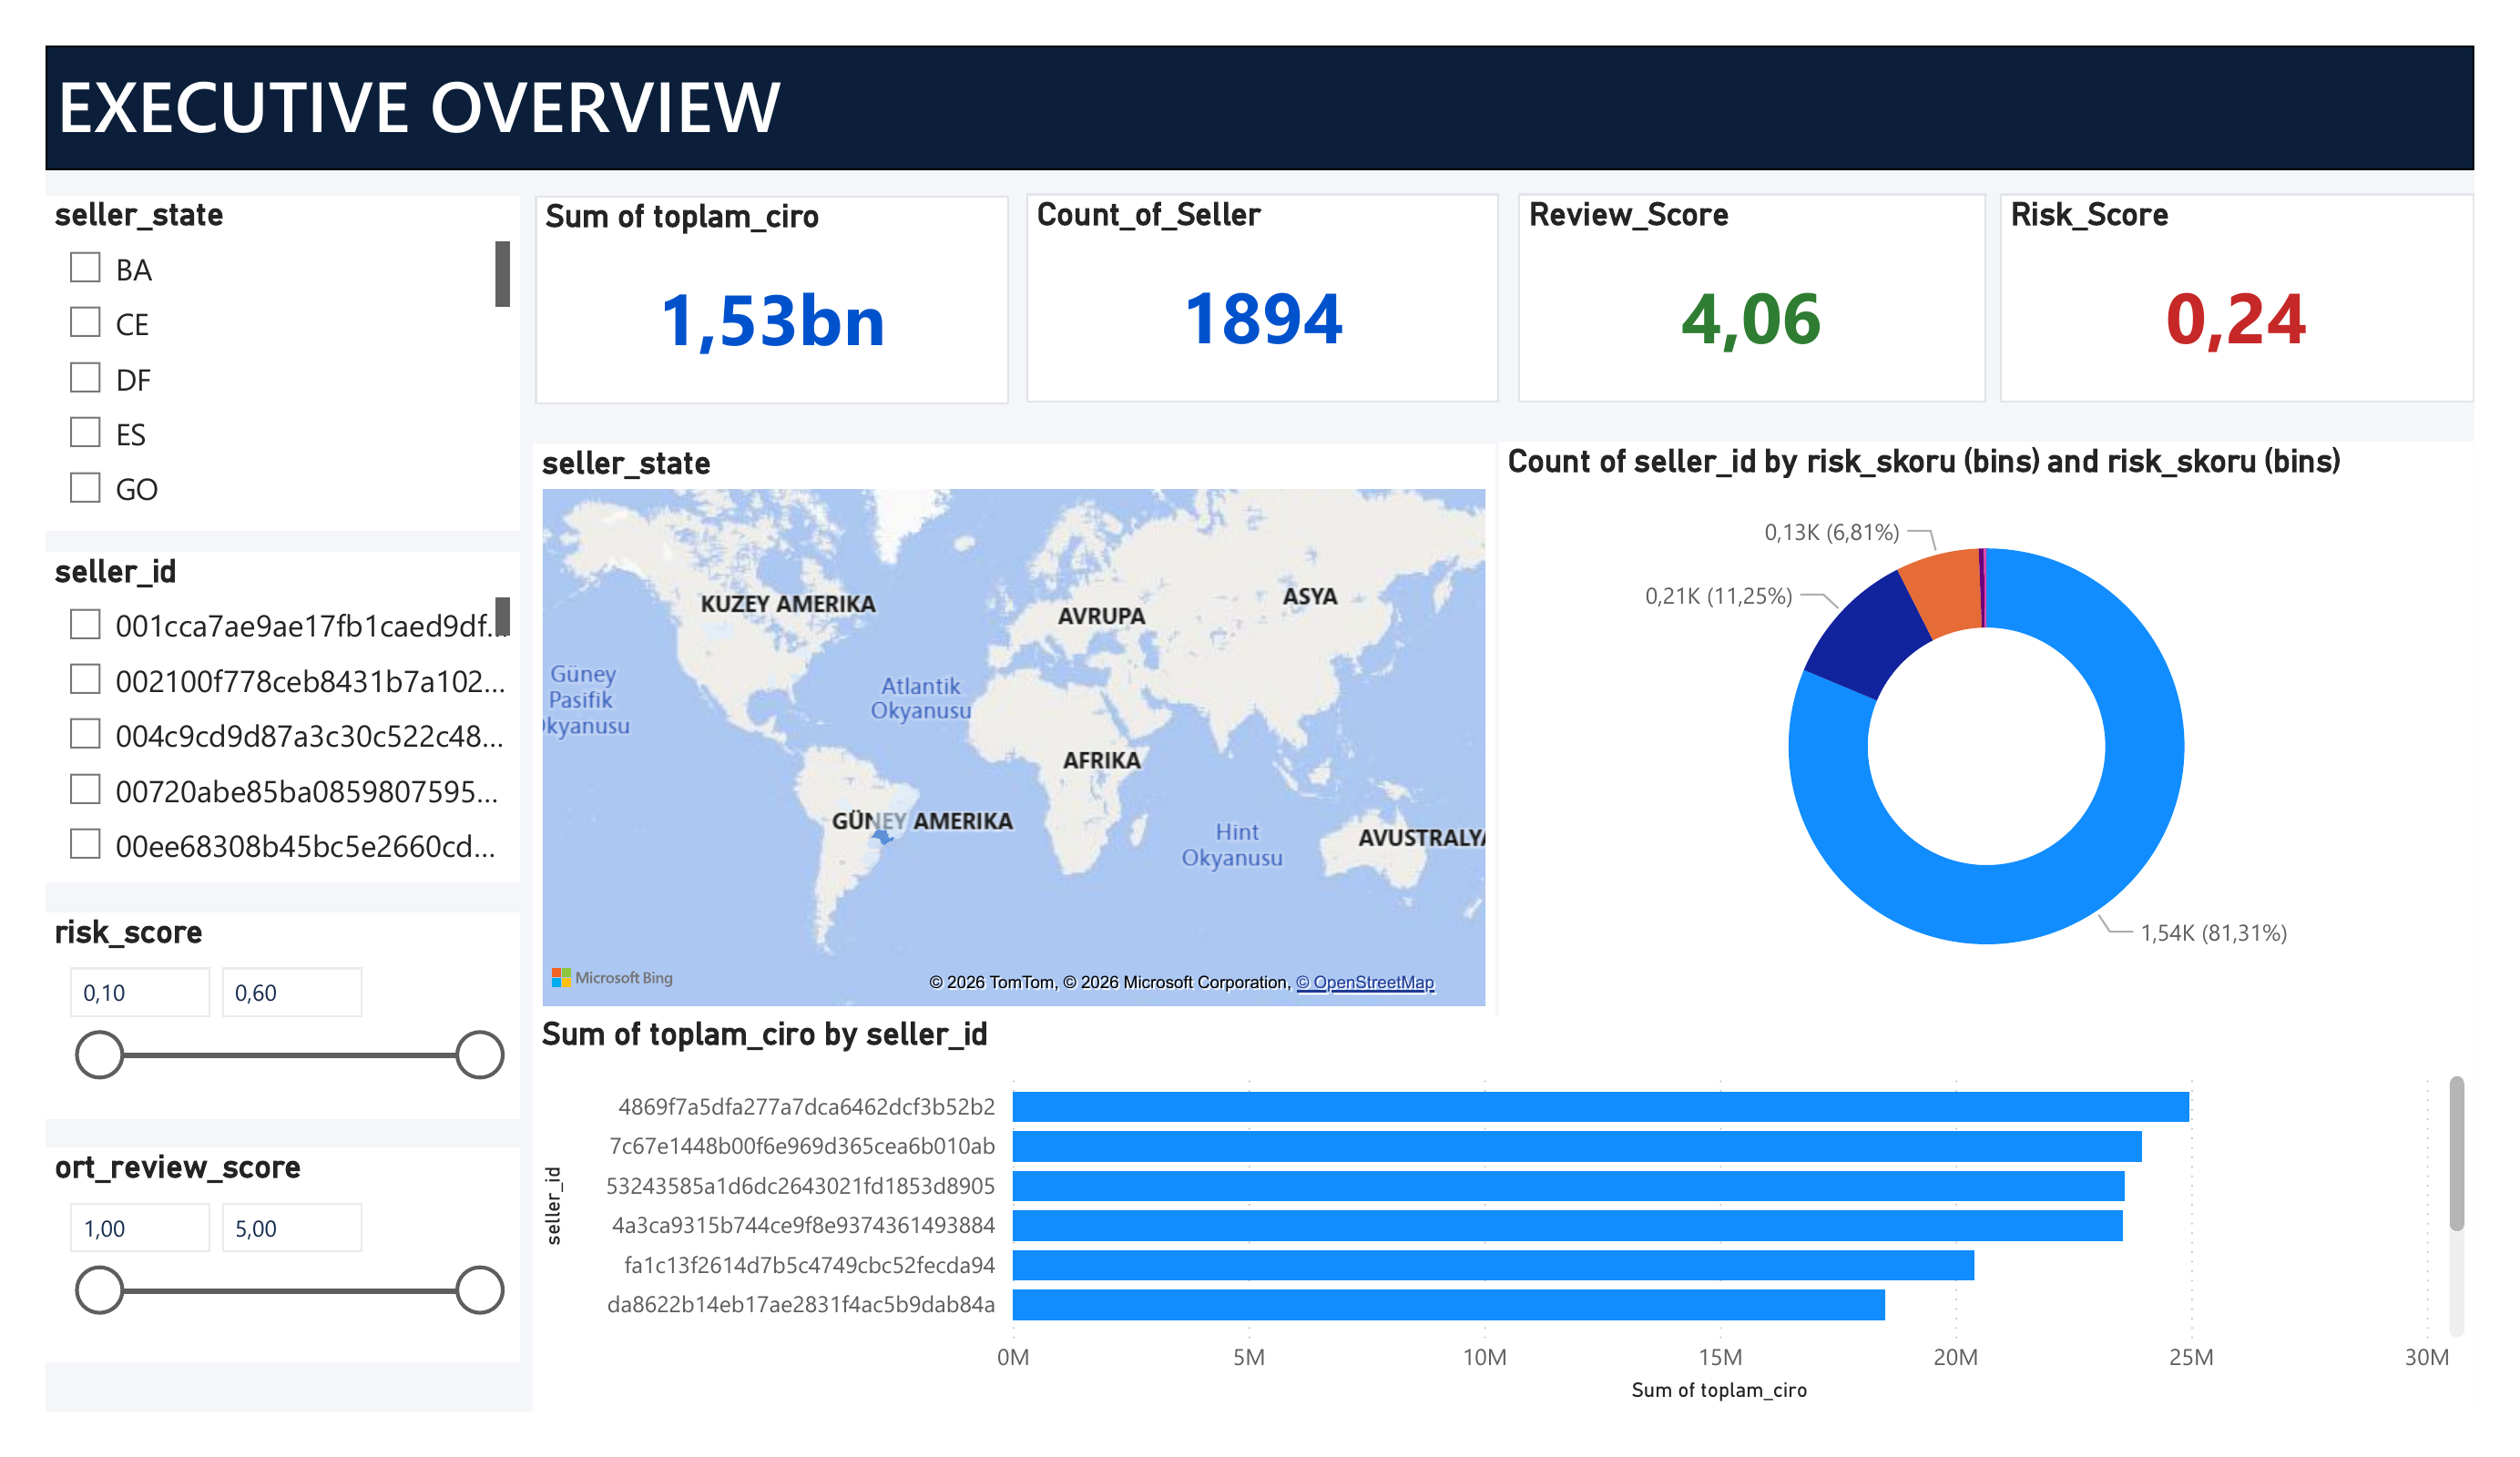

The page's visual inventory and layout, read from the dashboard file:
{"tool":"powerbi","page":{"name":"Executive Overview","canvas":[1280,720],"ordinal":0},"visuals":[{"type":"card","title":"Sum of toplam_ciro","fields":{"Values":["Sum(Query1.toplam_ciro)"]},"box":[257.8,78.9,250,110],"z":0},{"type":"card","title":"Review_Score","fields":{"Values":["Avg(Query1.ort_review_score)"]},"box":[775.6,77.8,247.8,110],"z":1000},{"type":"card","title":"Risk_Score","fields":{"Values":["Avg(Query1.risk_skoru)"]},"box":[1030,77.8,250,110],"z":2000},{"type":"card","title":"Count_of_Seller","fields":{"Values":["CountNonNull(Query1.seller_id)"]},"box":[516.7,77.8,248.9,110],"z":3000},{"type":"filledMap","fields":{"Category":["Query1.seller_state"]},"box":[257.1,210,507.1,301.4],"z":4000},{"type":"donutChart","fields":{"Category":["Query1.risk_skoru (bins)"],"Y":["CountNonNull(Query1.seller_id)"],"Series":["Query1.risk_skoru (bins)"]},"box":[765.7,208.6,514.3,302.9],"z":5000},{"type":"clusteredBarChart","fields":{"Category":["Query1.seller_id"],"Y":["Sum(Query1.toplam_ciro)"]},"box":[257.1,511.4,1022.9,208.6],"z":6000},{"type":"slicer","title":"seller_state","fields":{"Values":["Query1.seller_state"]},"box":[0,78.6,250,177.1],"z":7000},{"type":"slicer","title":"seller_id","fields":{"Values":["Query1.seller_id"]},"box":[0,267.1,250,174.3],"z":8000},{"type":"slicer","title":"risk_score","fields":{"Values":["Query1.risk_skoru"]},"box":[0,457.1,250,108.6],"z":9000},{"type":"slicer","title":"ort_review_score","fields":{"Values":["Query1.ort_review_score"]},"box":[0,581.4,250,112.9],"z":10000},{"type":"textbox","box":[0,0,1280,65.6],"z":11000}]}

Visuals, with their boxes on the page's 1280x720 design canvas (x1, y1, x2, y2). These are canvas units, not pixel positions in the 2520x1457 screenshot, which may show the page scaled, cropped or inside an application window:
"Sum of toplam_ciro" card: pyautogui.locateOnScreen(258, 79, 508, 189)
"Review_Score" card: pyautogui.locateOnScreen(776, 78, 1023, 188)
"Risk_Score" card: pyautogui.locateOnScreen(1030, 78, 1280, 188)
"Count_of_Seller" card: pyautogui.locateOnScreen(517, 78, 766, 188)
filledMap - Query1.seller_state: pyautogui.locateOnScreen(257, 210, 764, 511)
donutChart - Query1.risk_skoru (bins) x CountNonNull(Query1.seller_id): pyautogui.locateOnScreen(766, 209, 1280, 512)
clusteredBarChart - Query1.seller_id x Sum(Query1.toplam_ciro): pyautogui.locateOnScreen(257, 511, 1280, 720)
"seller_state" slicer: pyautogui.locateOnScreen(0, 79, 250, 256)
"seller_id" slicer: pyautogui.locateOnScreen(0, 267, 250, 441)
"risk_score" slicer: pyautogui.locateOnScreen(0, 457, 250, 566)
"ort_review_score" slicer: pyautogui.locateOnScreen(0, 581, 250, 694)
textbox: pyautogui.locateOnScreen(0, 0, 1280, 66)
